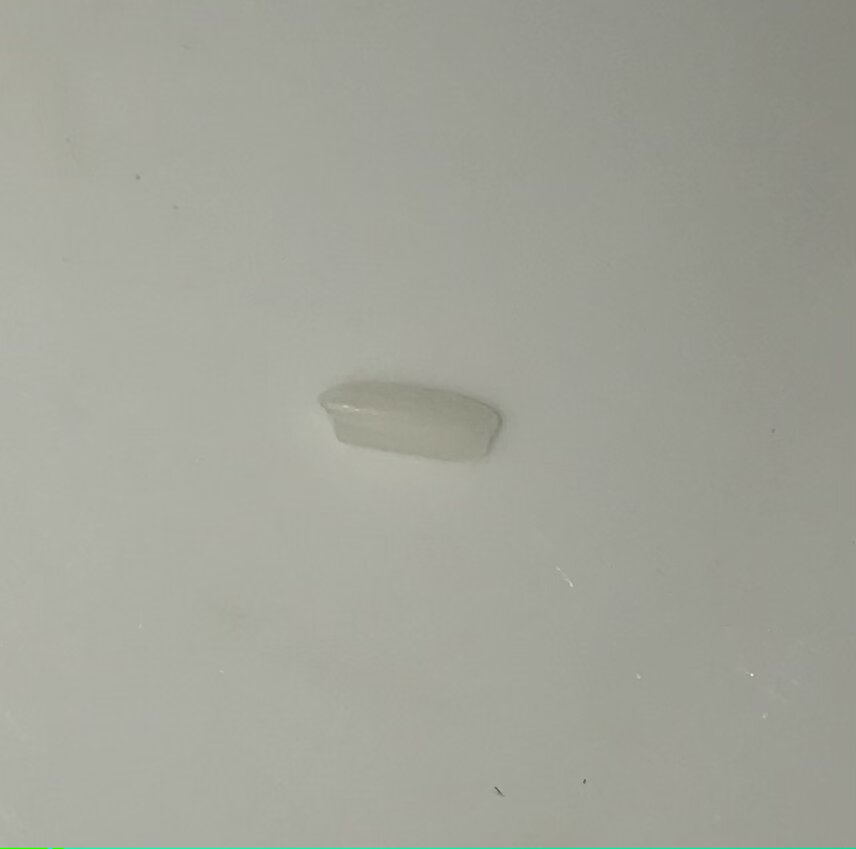Gao Lai Sua: (316, 371, 509, 473)
